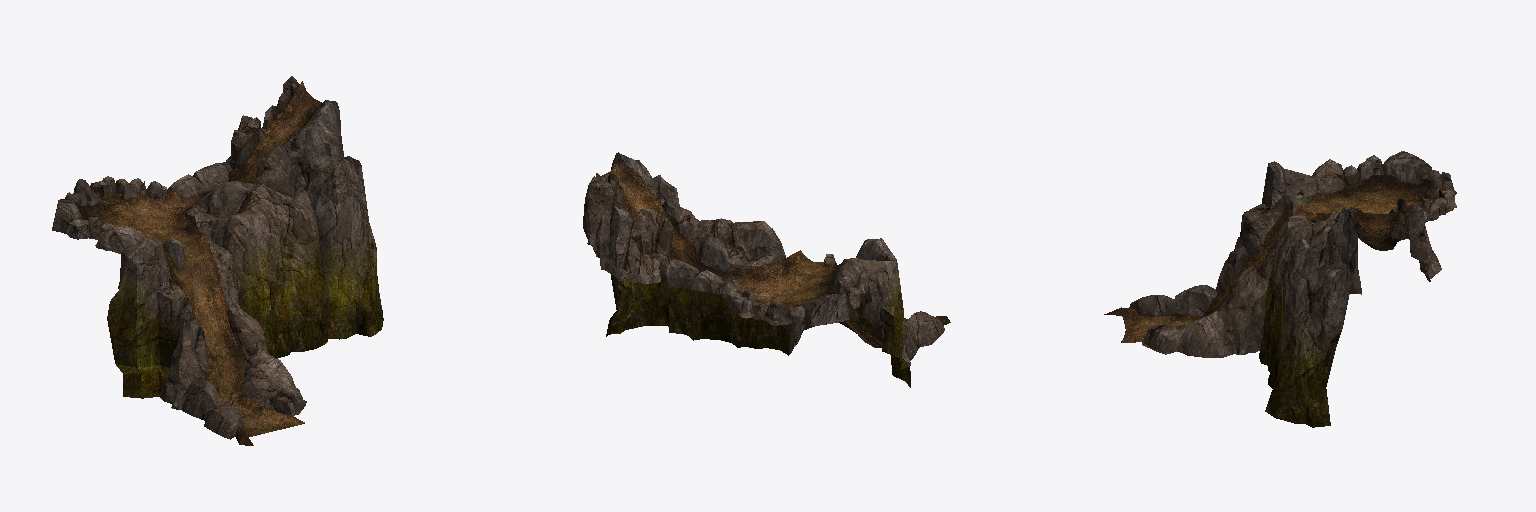
The picture shows the model from 3 angles: view 1: azimuth 30°, elevation 25°; view 2: azimuth 150°, elevation 25°; view 3: azimuth 270°, elevation 25°; orthographic projection.
Parts seen in each view (by area): view 1: waterfall; view 2: waterfall; view 3: waterfall.
Boxes of the visible parts, box(x1,y1,x2,y2) form: waterfall: box(52, 76, 383, 445); waterfall: box(583, 152, 950, 387); waterfall: box(1104, 151, 1456, 427).
Bounding box in the file's own units: 1686 × 1177 × 1814.
1 materials, 1 textured.